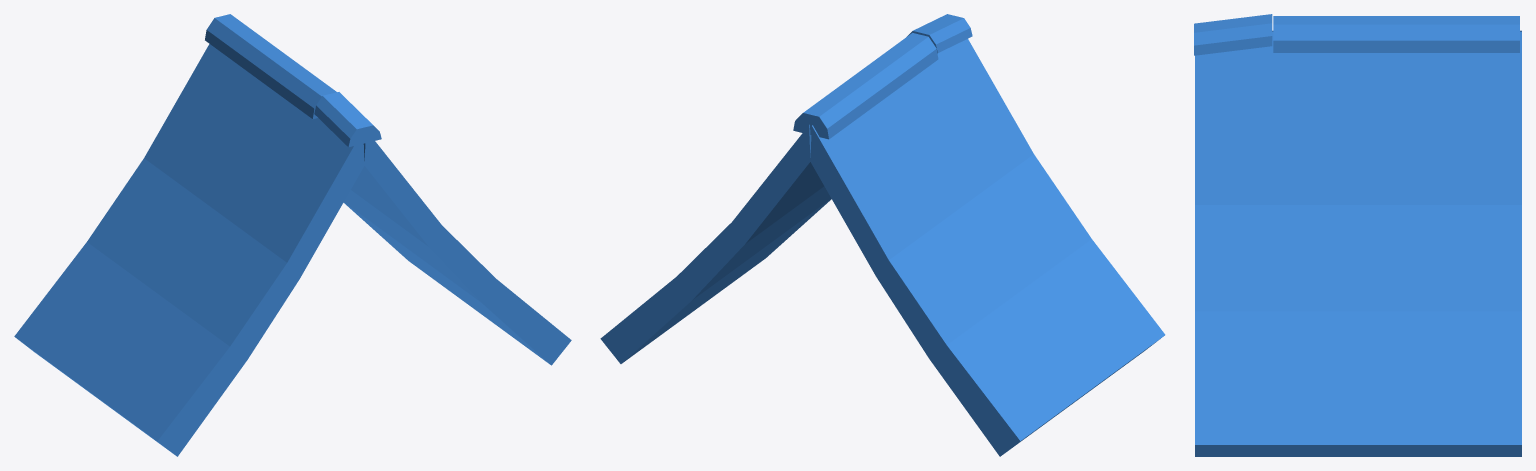
The model's file is Collision_Roof_RoundTiles_6x4.fbx.
3 views of the same model, side by side, from view 1: azimuth 30°, elevation 25°; view 2: azimuth 150°, elevation 25°; view 3: azimuth 270°, elevation 25° (orthographic). The views are drawn at different scales.
Visible parts, largest first — view 1: UCX_Roof_RoundTiles_6x4_01; view 2: UCX_Roof_RoundTiles_6x4_01; view 3: UCX_Roof_RoundTiles_6x4_01.
Part boxes in pixels (box(x1,y1,x2,y2)): UCX_Roof_RoundTiles_6x4_01: box(14, 14, 571, 456); UCX_Roof_RoundTiles_6x4_01: box(600, 14, 1165, 456); UCX_Roof_RoundTiles_6x4_01: box(1194, 14, 1521, 456).
Bounding box in the file's own units: 838 × 565 × 503.
